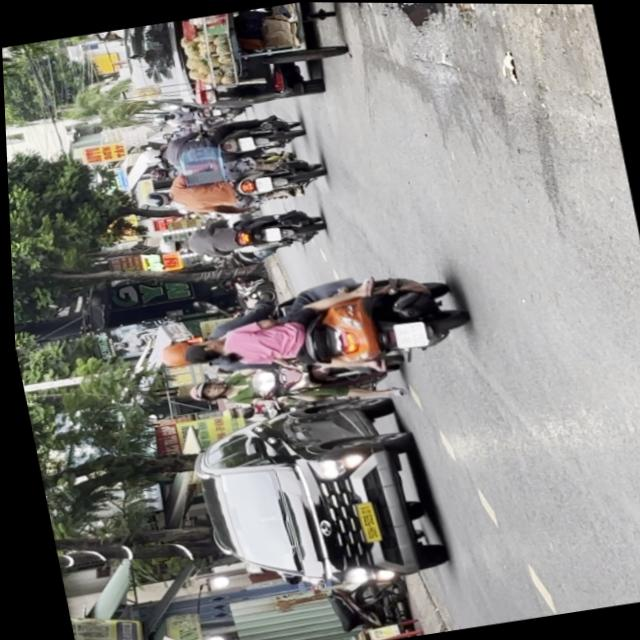helmet: (153, 339, 194, 371), (182, 379, 224, 404)
licenseplate: (144, 259, 475, 401), (177, 343, 403, 429)
motorcyclist: (176, 335, 224, 368)
nohelmet: (389, 320, 424, 349)
